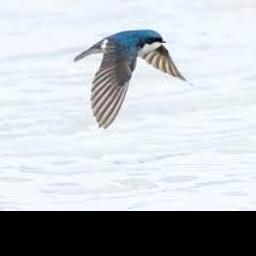Swallow: (72, 28, 191, 128)
